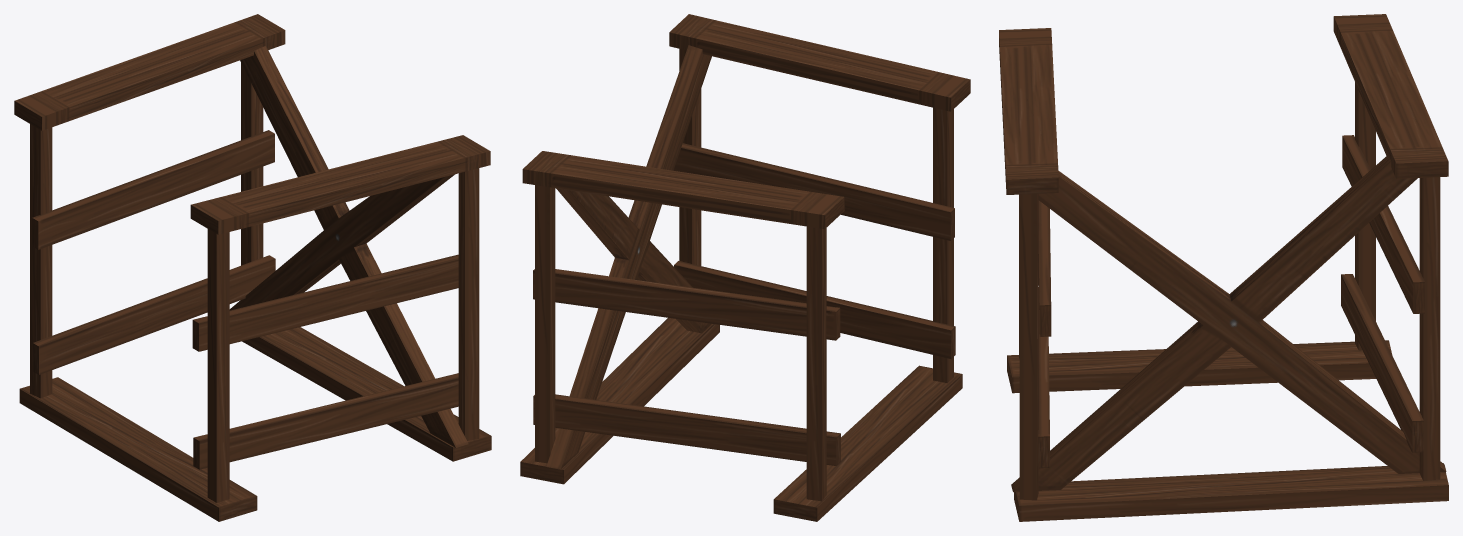
Rendered from SM_ScaffoldingWooden1.FBX.
3 renders of one model, left to right at view 1: azimuth 30°, elevation 25°; view 2: azimuth 150°, elevation 25°; view 3: azimuth 270°, elevation 25°, orthographic. The views are drawn at different scales.
Parts seen in each view (by area): view 1: Box065; view 2: Box065; view 3: Box065.
Part boxes in pixels (<box>): Box065: <box>14,14,491,521</box>; Box065: <box>520,14,970,521</box>; Box065: <box>999,14,1448,521</box>.
Size of the model in its own units: 68.61 by 64 by 77.04.
